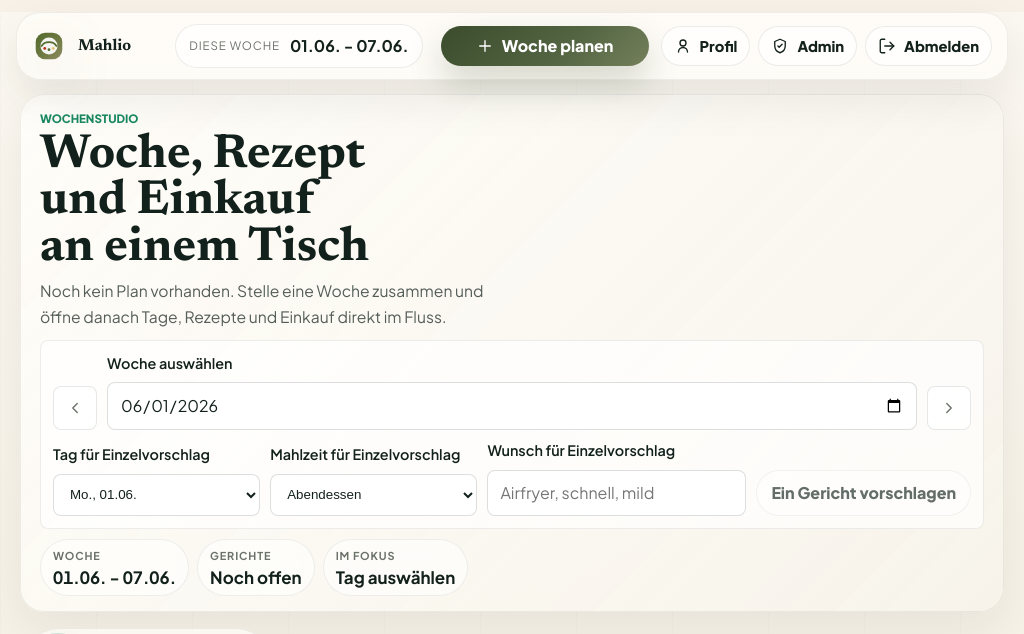
Test: Mealplanner app › shows the admin link in the header only for the configured admin account
The image size is (1024, 634).
Click the link "Admin": (808, 46) [758,26,857,66]
(page scrolled)
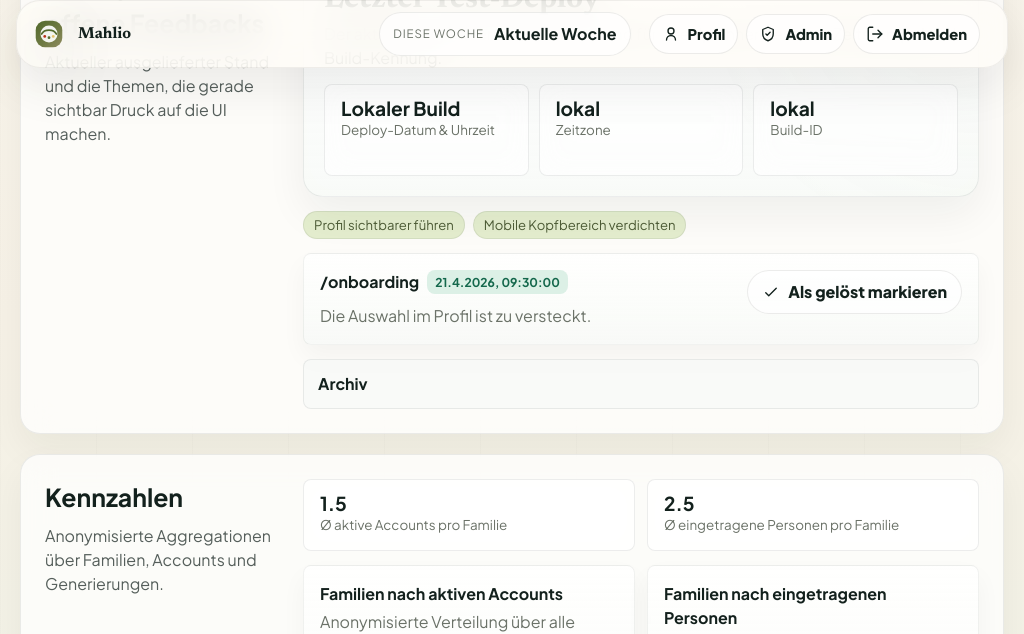
Check: the text "Build-ID" is shown, box [770,121,822,138]
Check: the text "Die Auswahl im Profil ist zu versteckt." is shown, box [320,305,591,326]
Check: the heading "Archiv" is shown, box [318,373,368,394]
